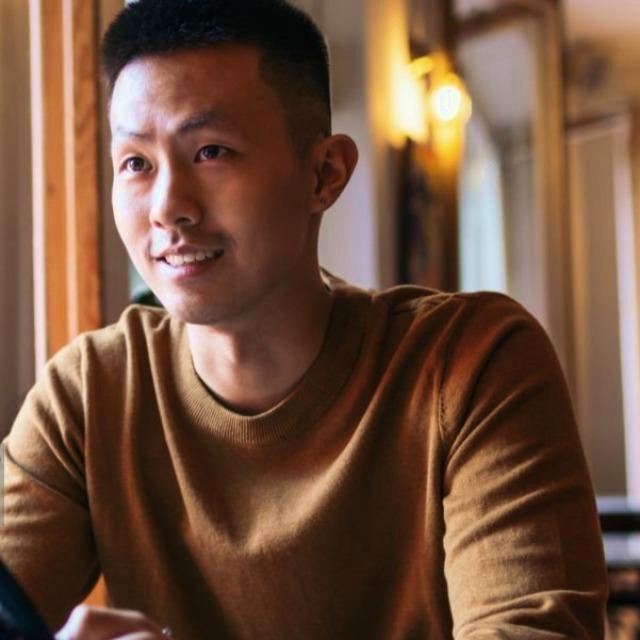Sin_Casco_Mascarrilla: (91, 0, 350, 320)
Sin_Chaleco: (41, 299, 538, 640)
